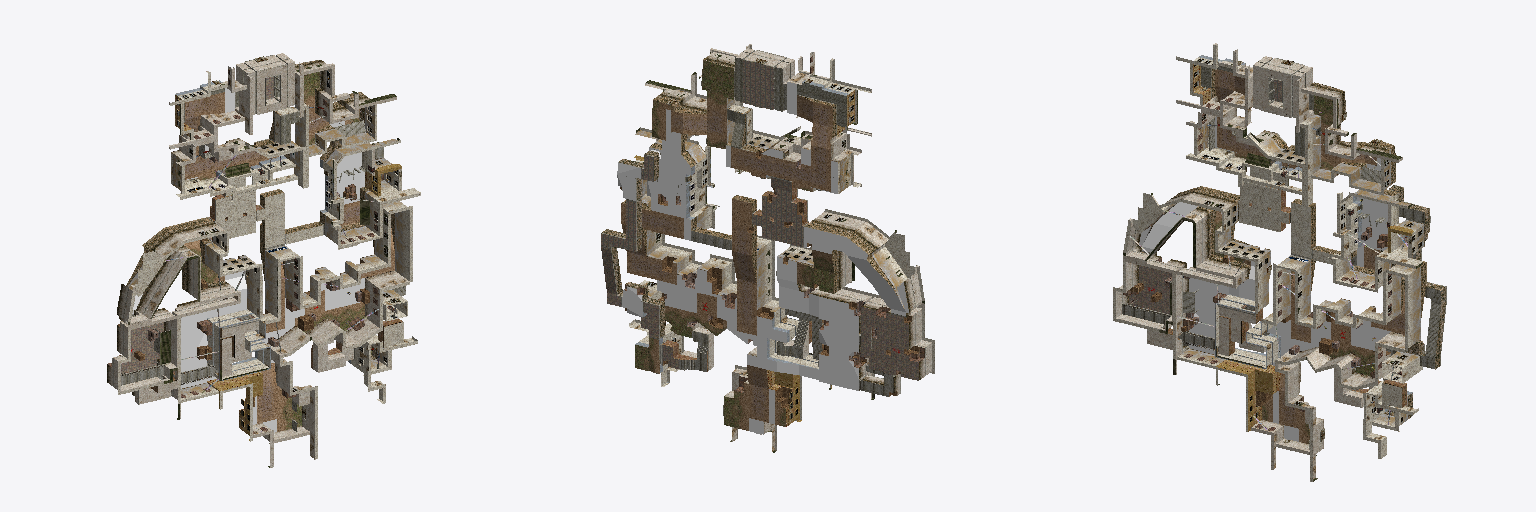
3 views of the same model, side by side, from view 1: azimuth 30°, elevation 25°; view 2: azimuth 150°, elevation 25°; view 3: azimuth 330°, elevation 25° (orthographic).
Visible parts, largest first — view 1: BSP_Object.model_0; view 2: BSP_Object.model_0; view 3: BSP_Object.model_0.
Part boxes in pixels (x1,y1,x2,y2): BSP_Object.model_0: (107,53,420,467); BSP_Object.model_0: (601,44,934,452); BSP_Object.model_0: (1113,43,1446,481).
Size of the model in its own units: 3904 by 4992 by 640.
49 materials, 48 textured.